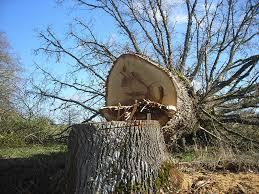Downstairs: (27, 1, 259, 146)
